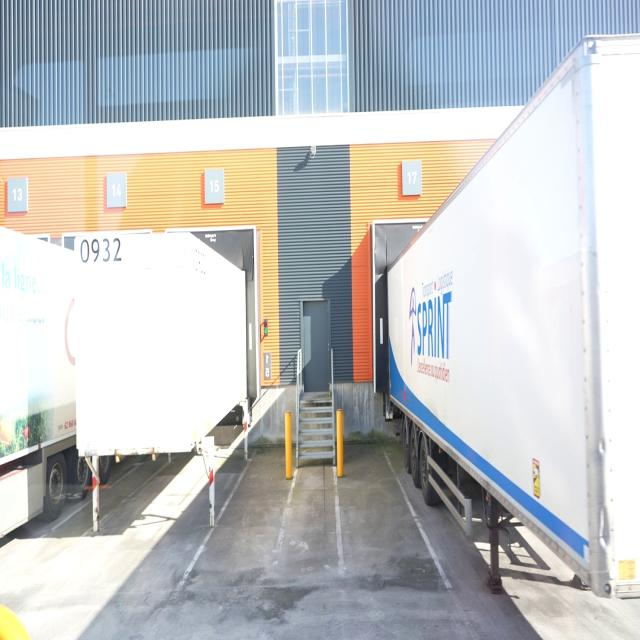Code: (76, 232, 126, 268)
